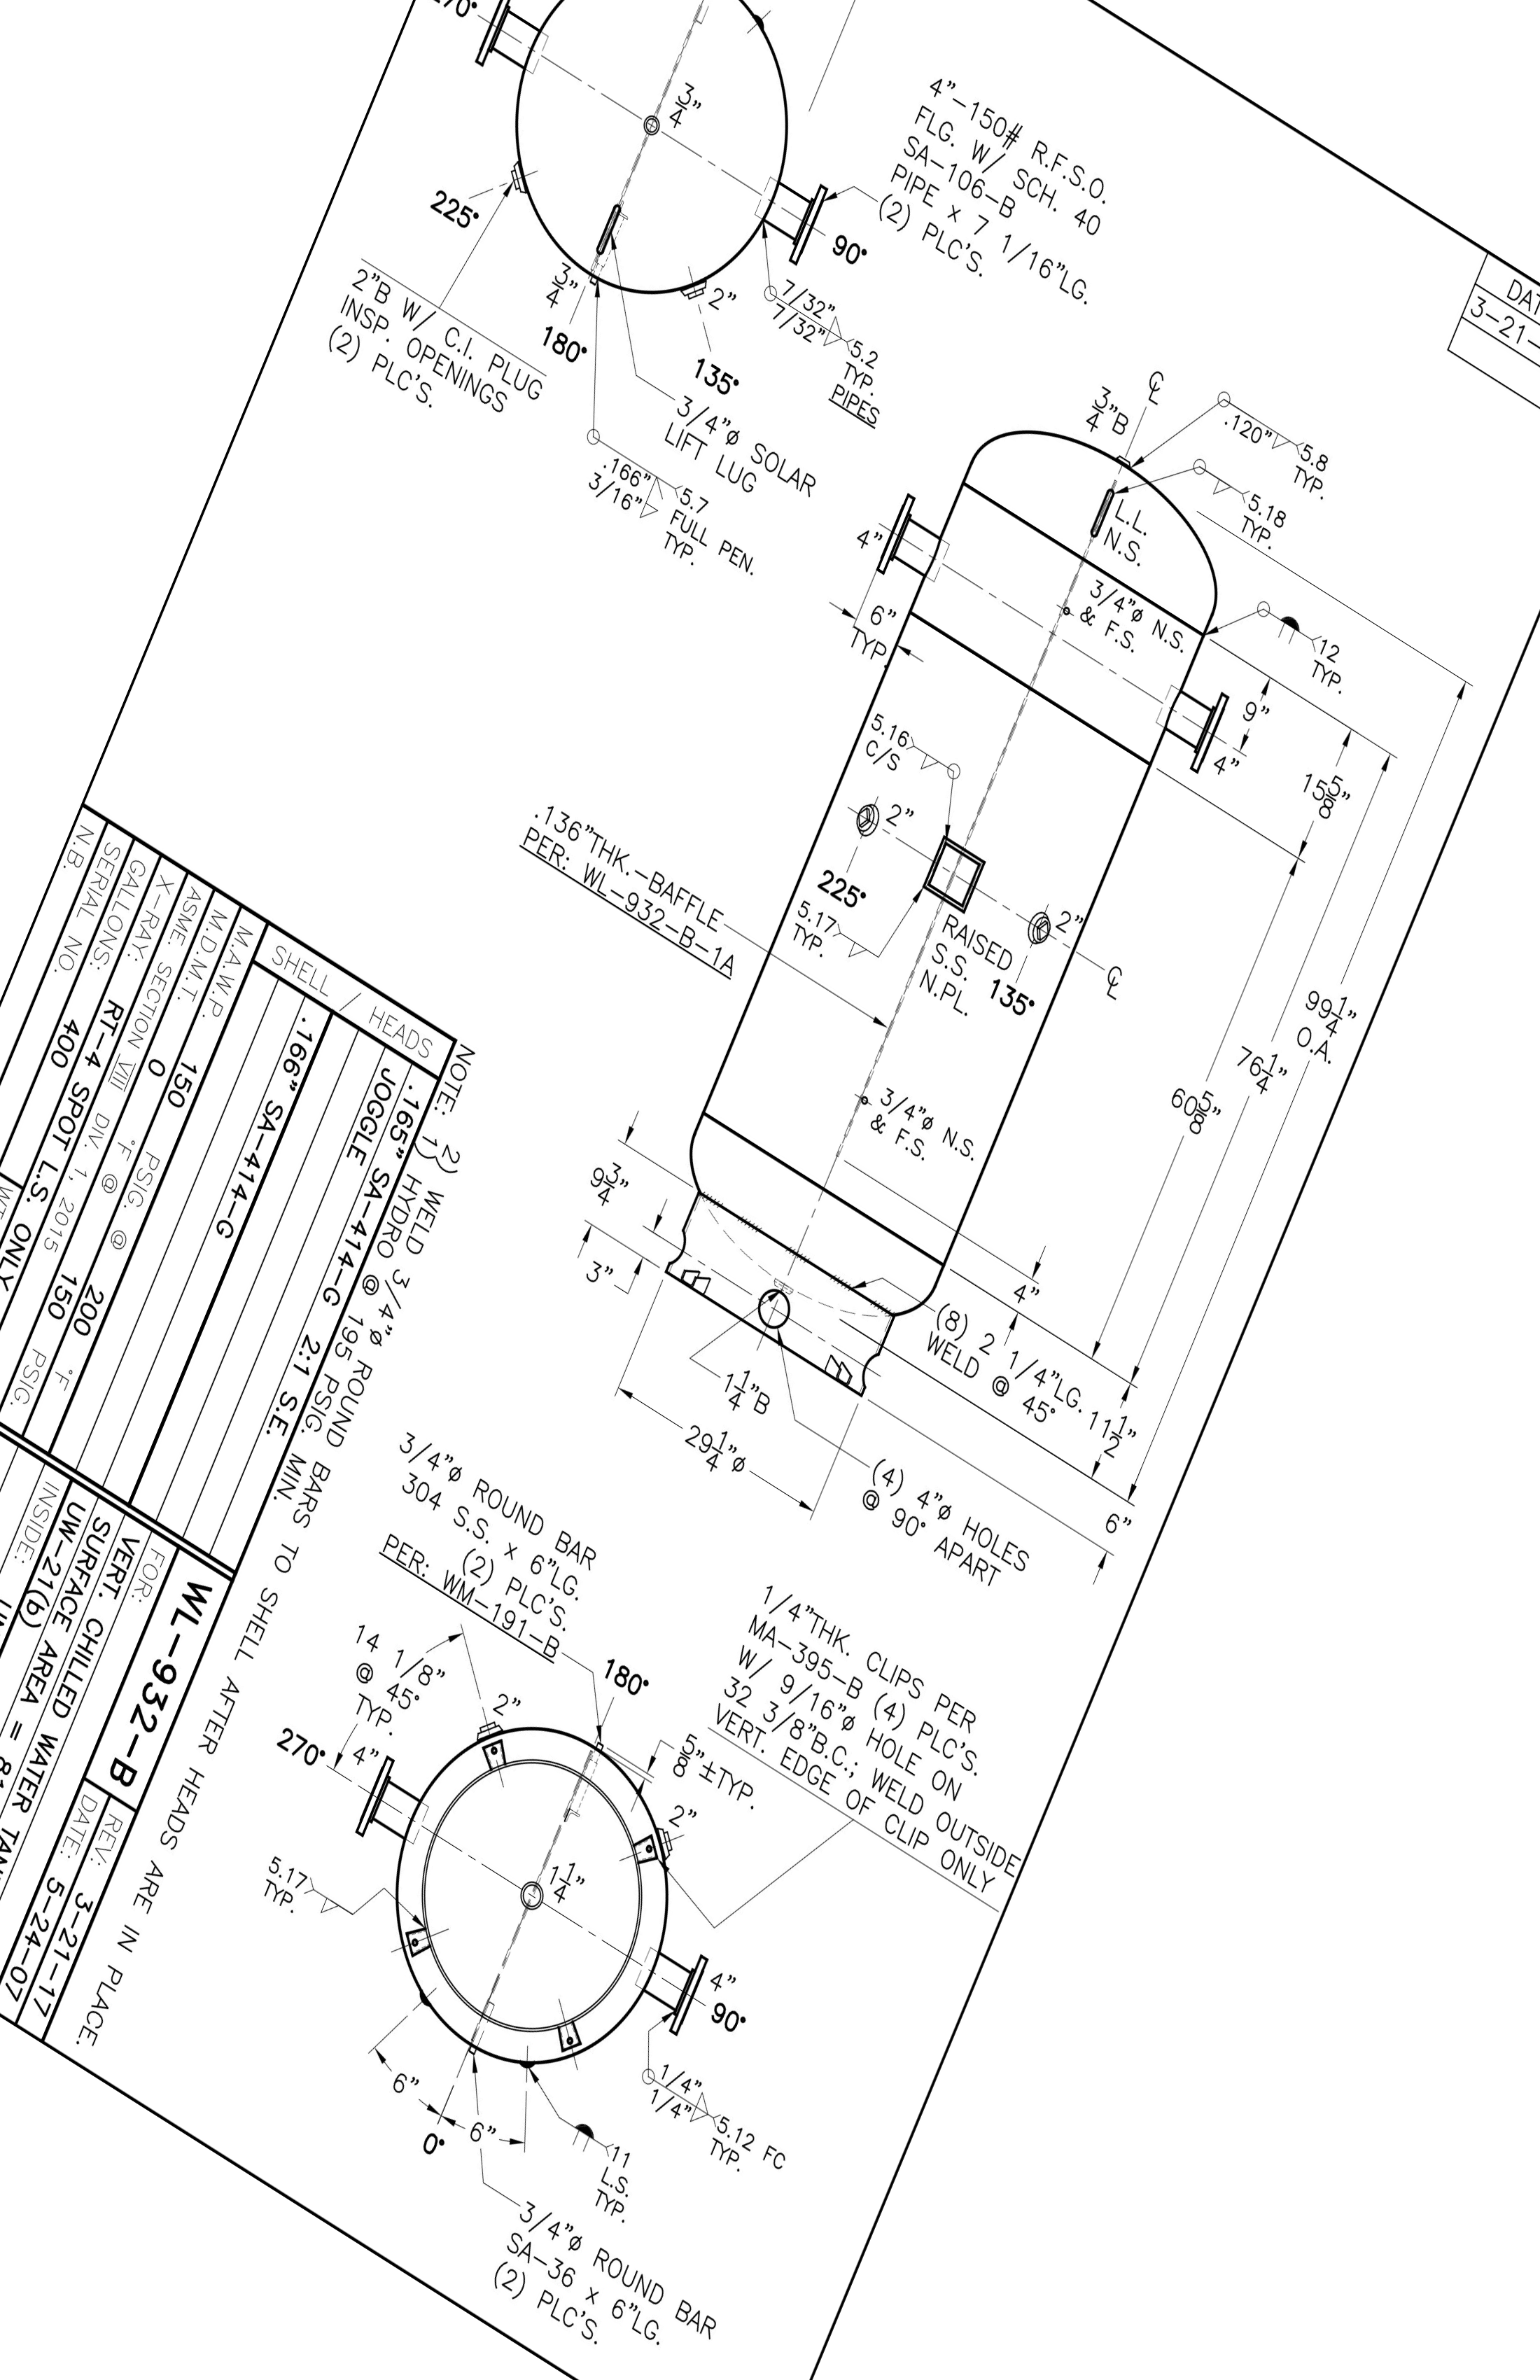Nozzle: (593, 1919, 754, 2068), (1134, 649, 1259, 798), (825, 468, 966, 593), (354, 1719, 446, 1867), (421, 0, 562, 64)
